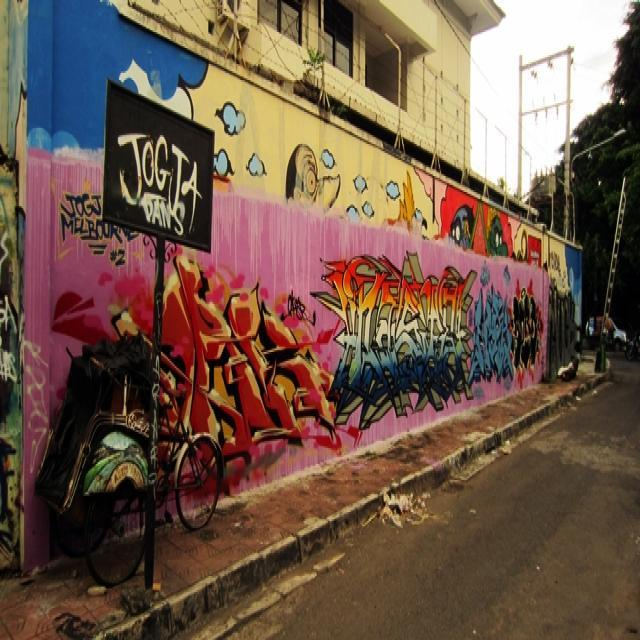-: (114, 258, 333, 468), (314, 254, 469, 432), (28, 0, 209, 151), (114, 128, 199, 240), (0, 150, 22, 570), (437, 183, 540, 258), (16, 322, 48, 474), (470, 274, 510, 395), (214, 98, 267, 184), (284, 144, 343, 210), (510, 282, 541, 380)
